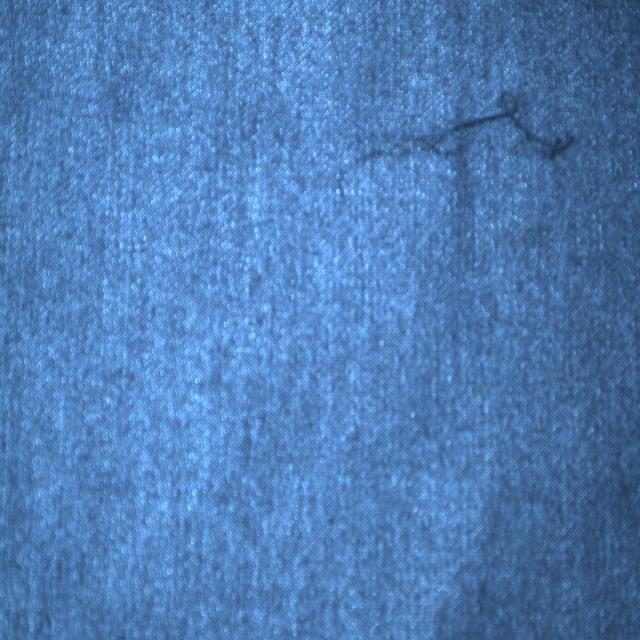defect: (356, 85, 588, 179)
